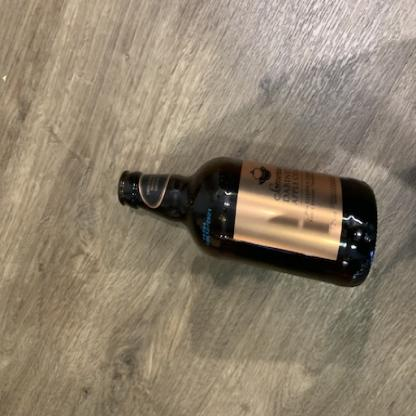trash: (118, 156, 387, 288)
